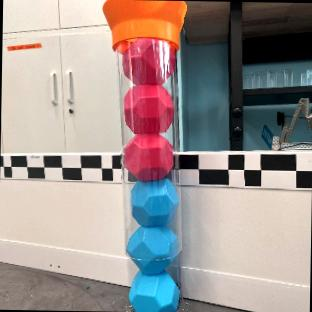Loader: (102, 0, 189, 312)
V5_BLUE: (126, 222, 178, 275), (129, 179, 178, 224), (129, 269, 179, 312)
V5_RED: (122, 80, 173, 134), (119, 36, 175, 84), (125, 133, 173, 180)
